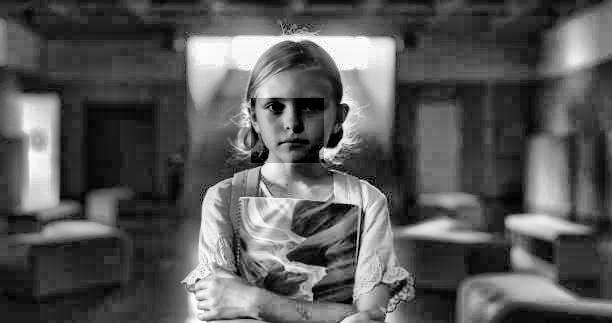sad: (252, 99, 325, 164)
